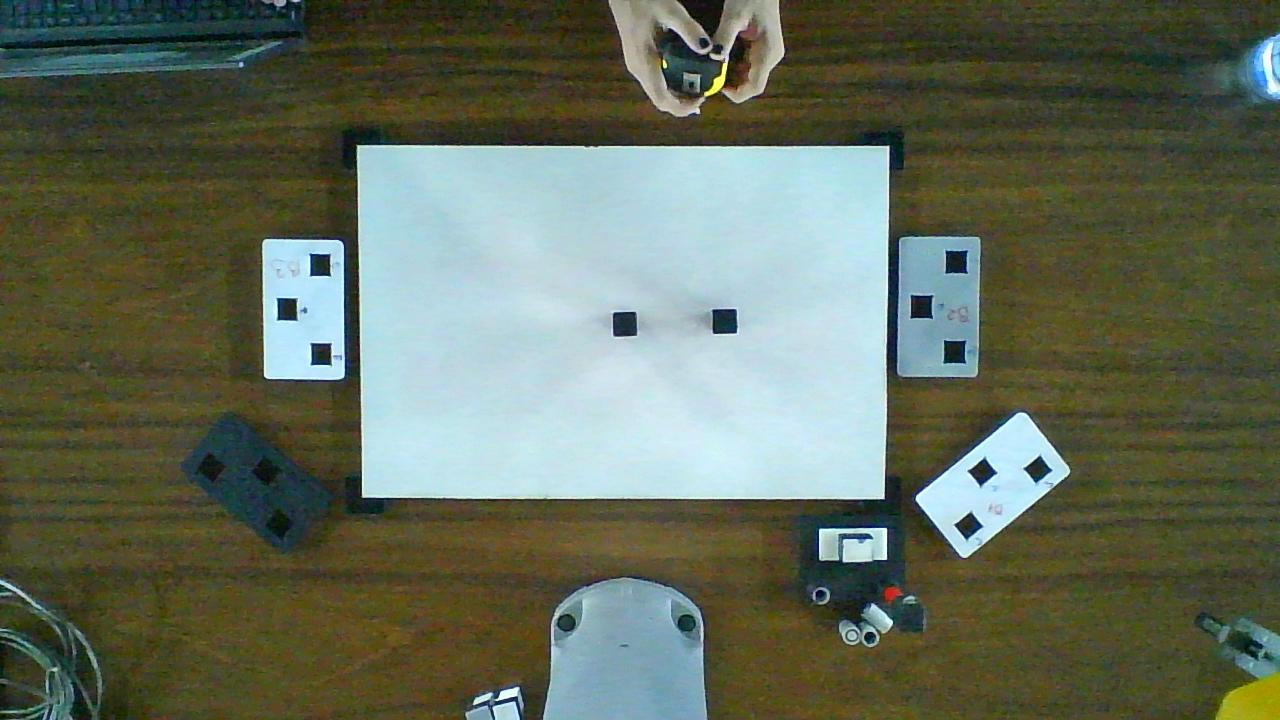peca_preta: (613, 313, 636, 336), (714, 310, 736, 333)
